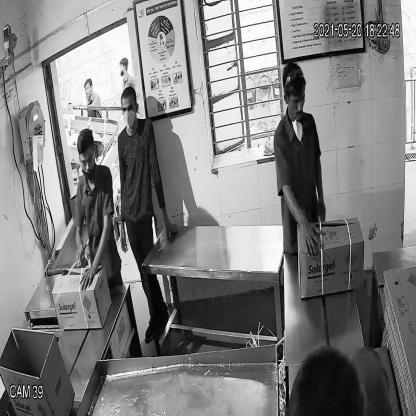goggles: (76, 151, 98, 169)
no_goggles: (280, 90, 310, 107), (120, 102, 138, 115)
